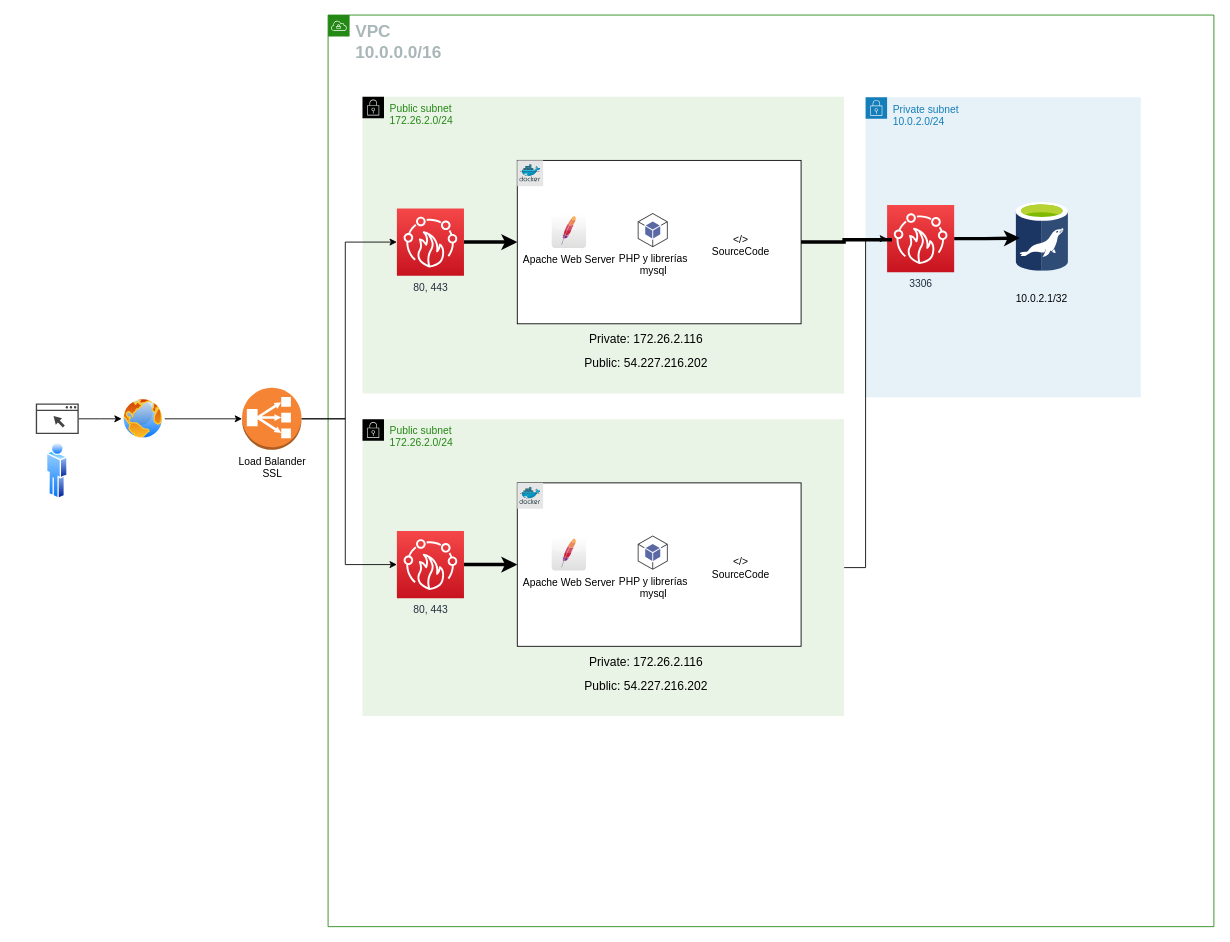
The diagram is 1230 pixels wide and 942 high, and some of its shapes have lost their labels. Each missing label, with the centre of its shape:
Base de Datos: [1042,236]
Internet: [142,418]
users: [57,470]
